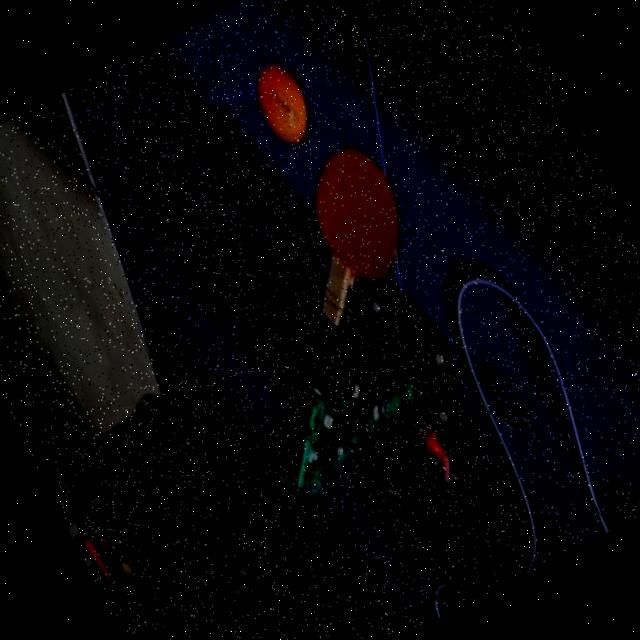ping-pong-ball: (241, 52, 324, 156)
